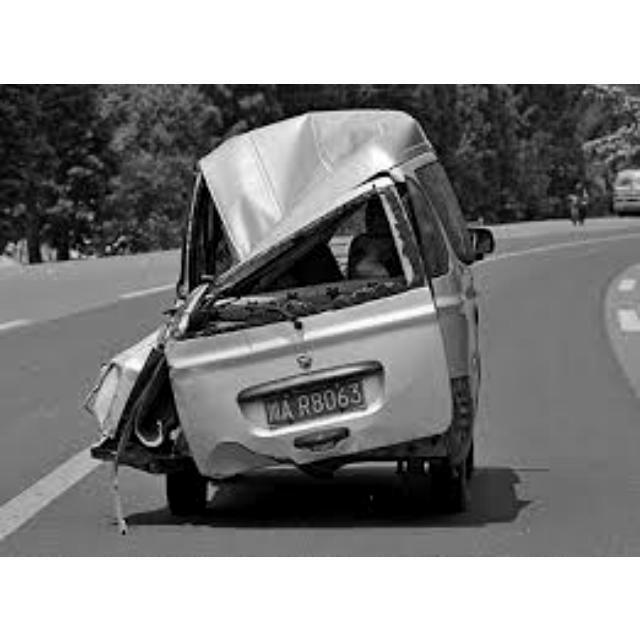Rear-windscreen-Damage: (188, 183, 427, 344)
boot-dent: (185, 291, 437, 457)
roof-dent: (200, 112, 421, 242)
